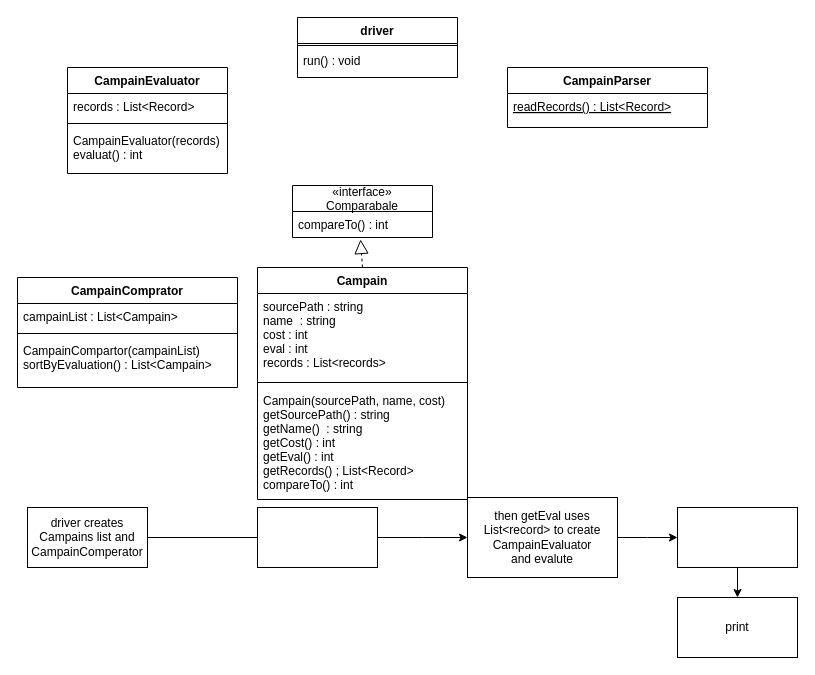
Image size: 815x675. Some labels were removed from this diagram. Each missing label, with the centre of its shape:
"Campain c'tor uses CampainParser to parse to List<record>" goes at point (317, 537).
"driver create CampainComperator and call sort method" goes at point (737, 537).
